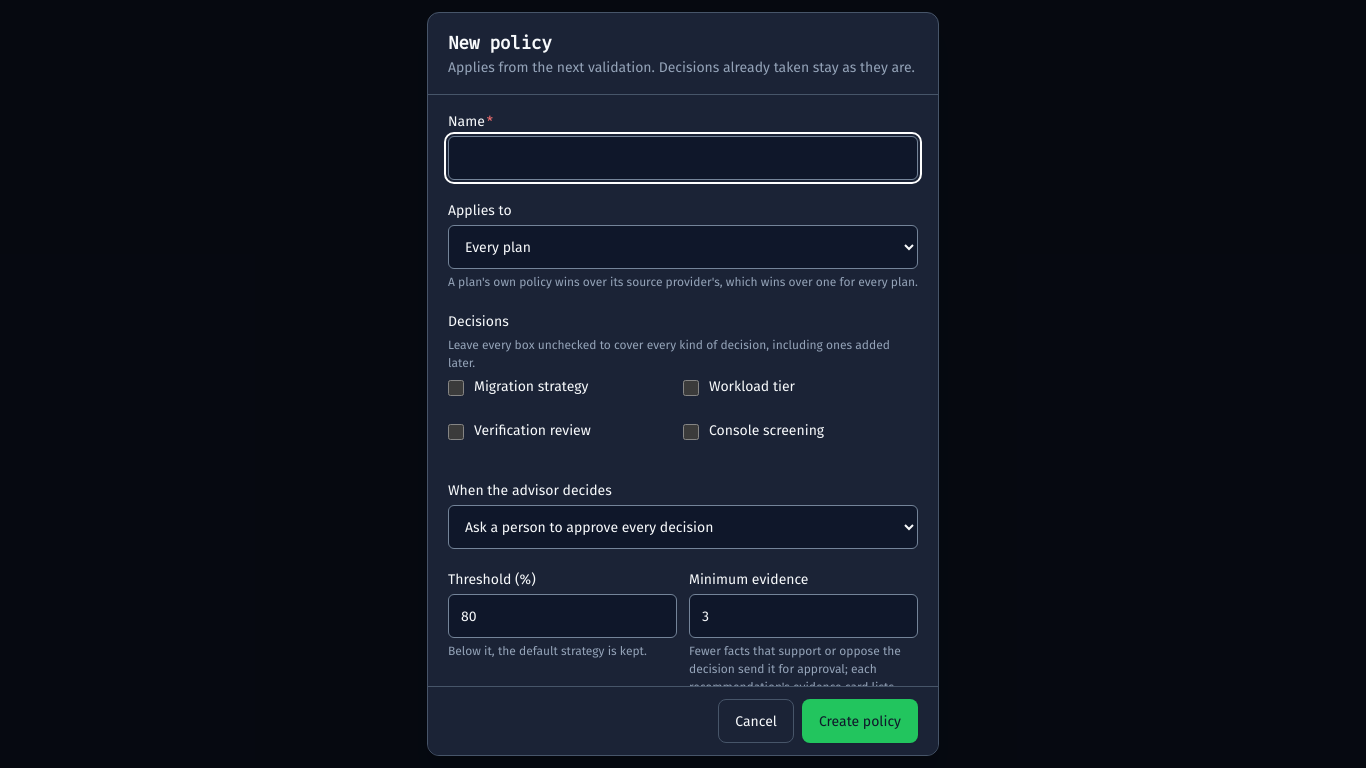
protects changed policy on Escape and Cancel
The width and height of the screenshot is (1366, 768).
In the field labelled "Name*": (683, 158) left=448, top=136, right=918, bottom=180, type "Keep this draft"
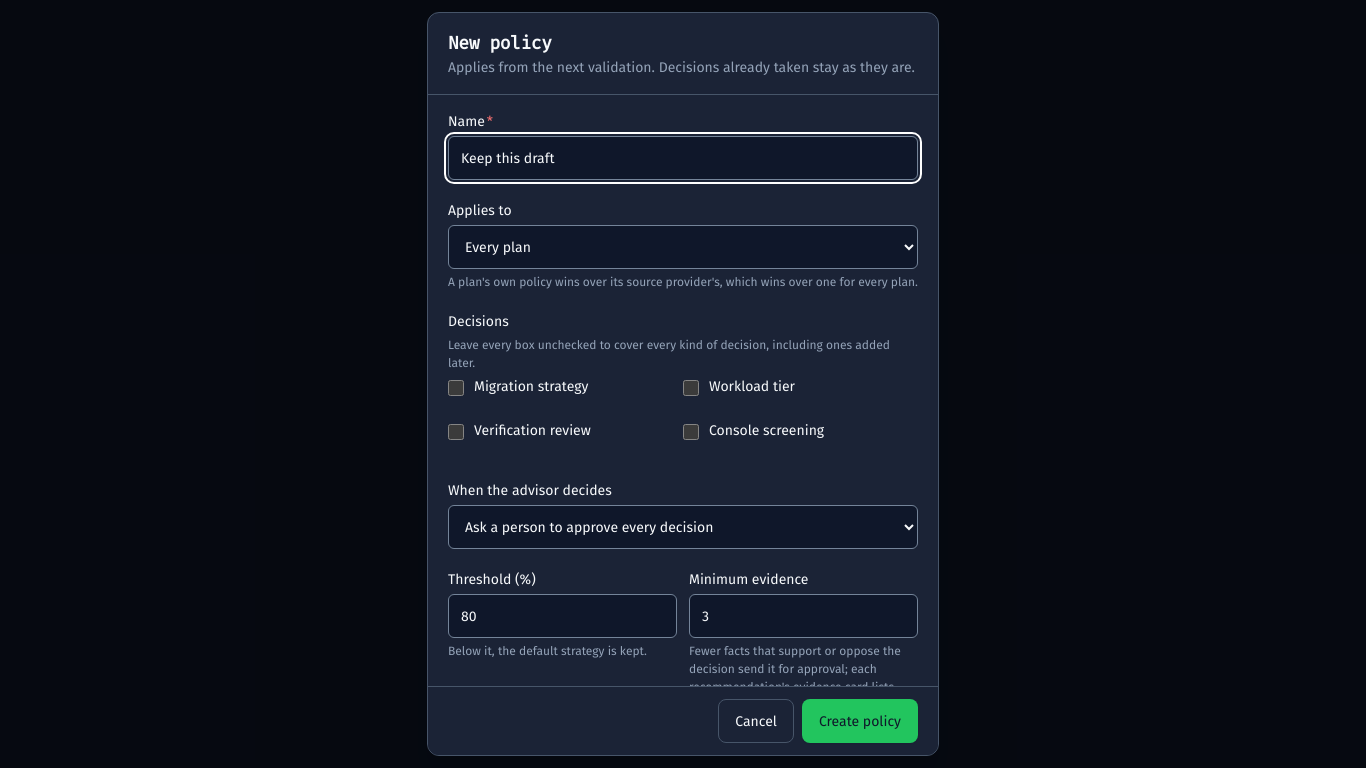
Press Escape
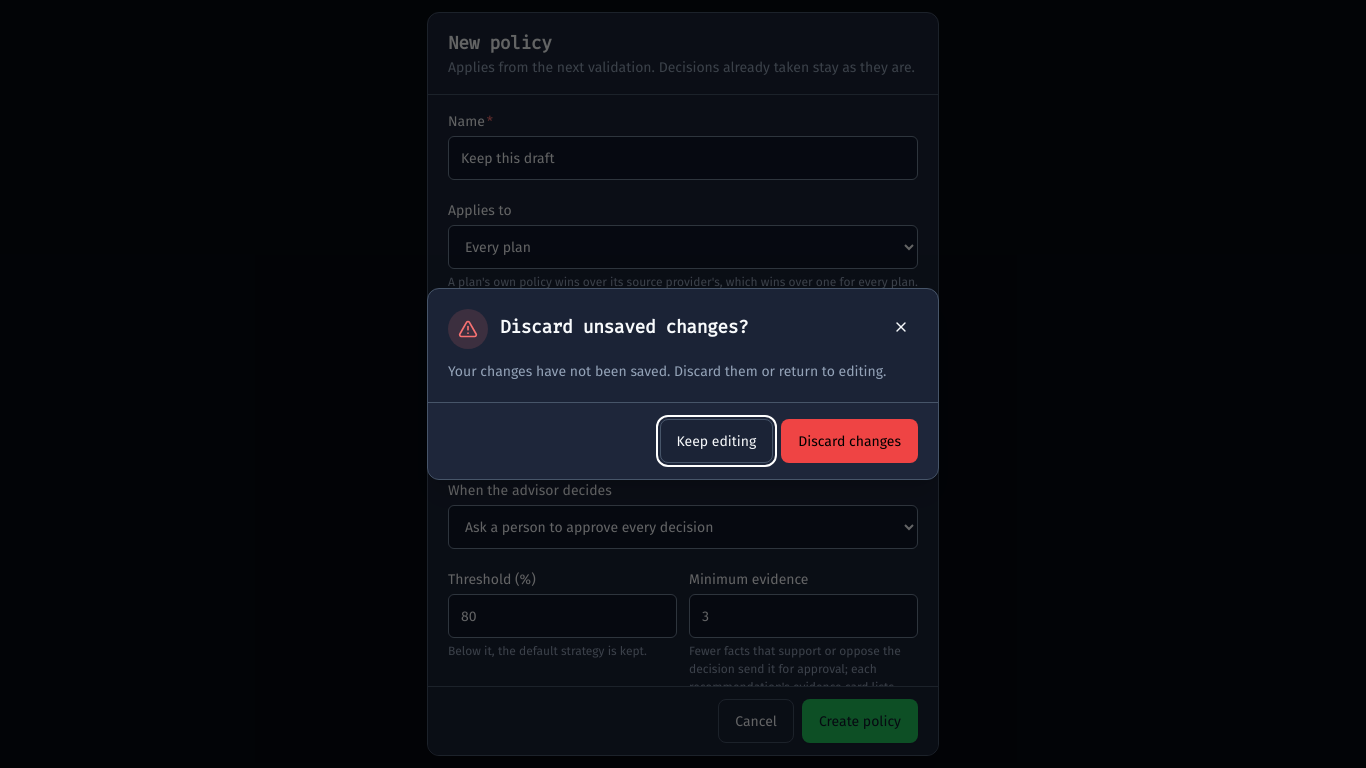
Now the dialog shows "Discard unsaved changes?", box left=500, top=315, right=748, bottom=339
Click the button "Keep editing": (716, 441) left=660, top=419, right=773, bottom=463
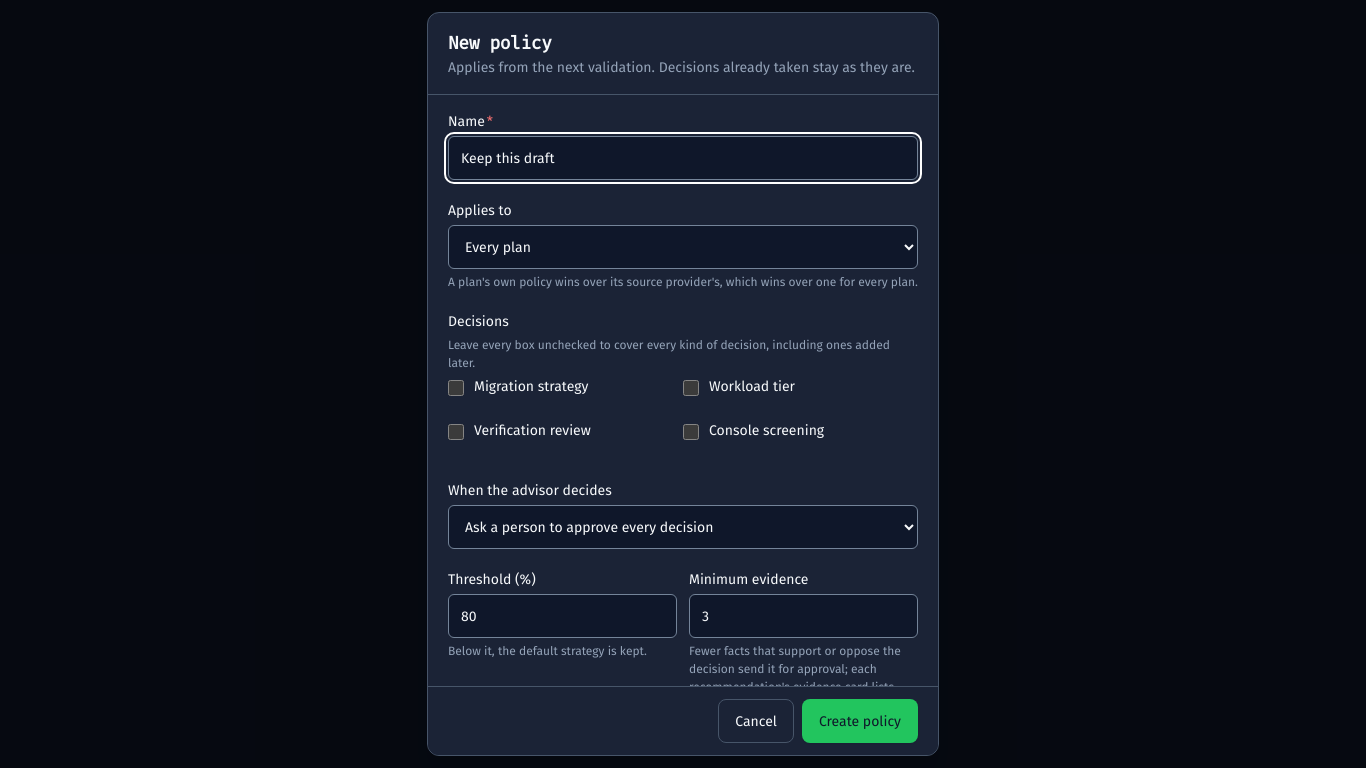
Click the button "Cancel": (756, 721) left=718, top=699, right=794, bottom=743
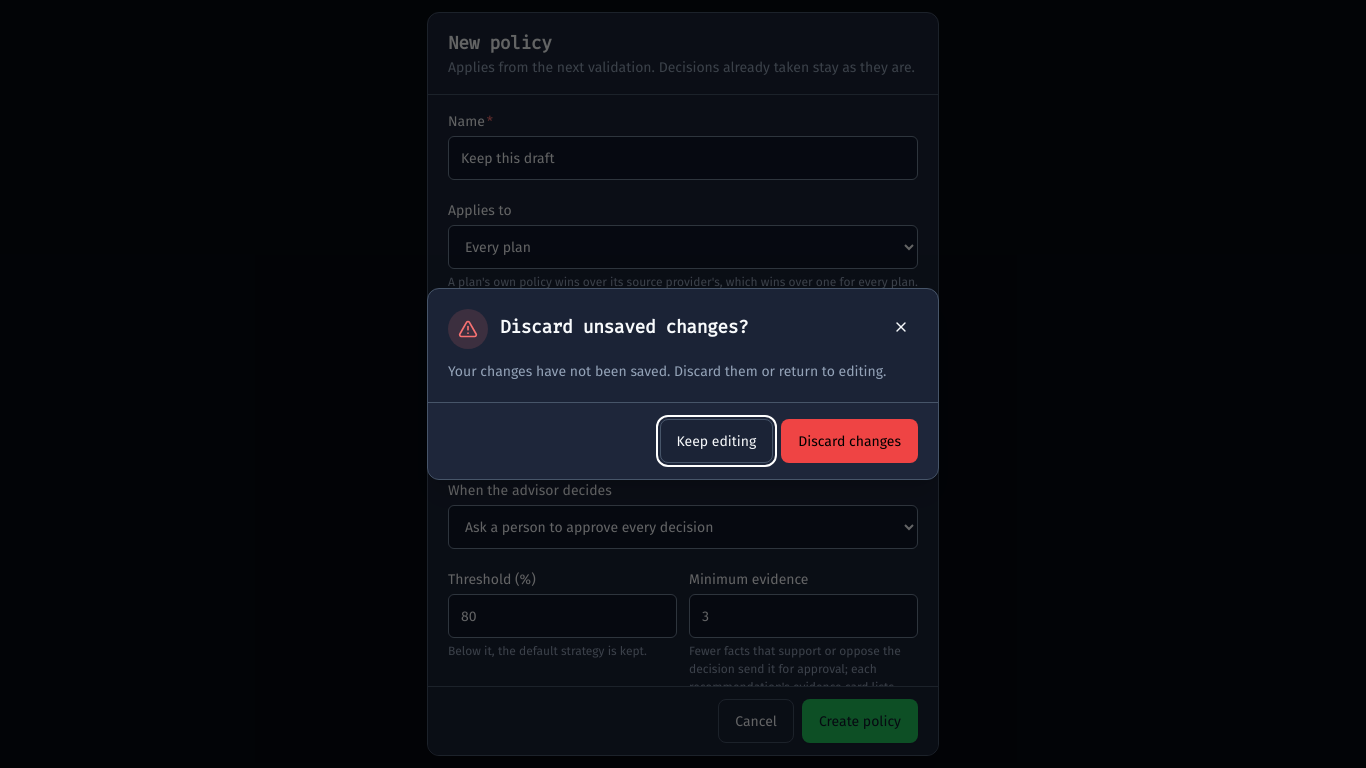
Now the dialog is shown, box left=427, top=288, right=939, bottom=480
